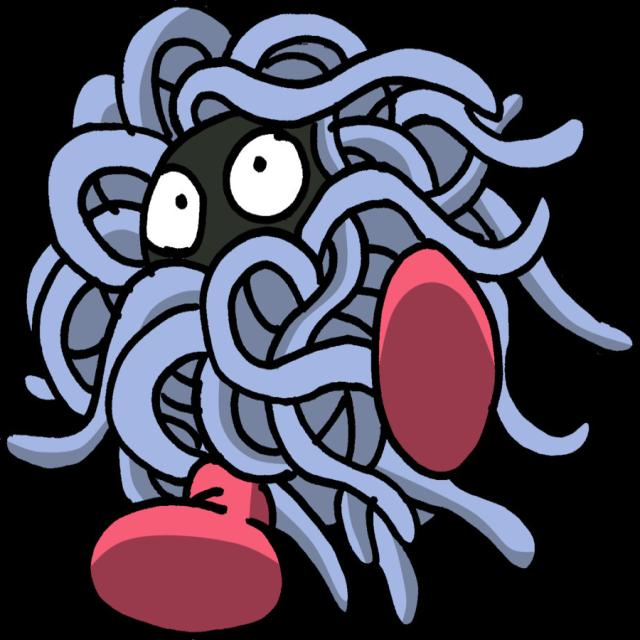Tangela: (88, 41, 522, 632)
